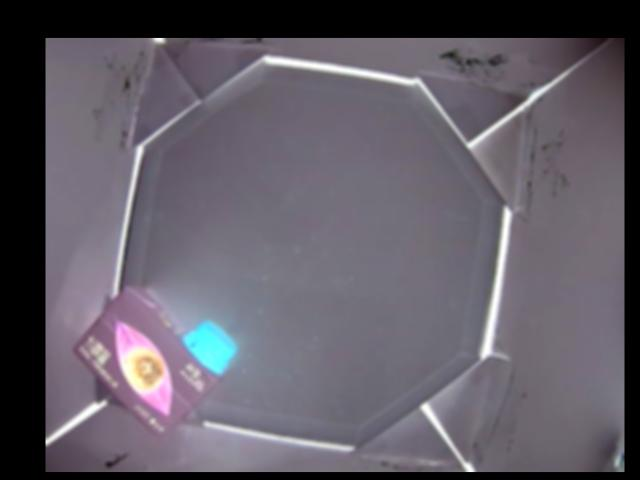Bottle: (75, 285, 231, 426)
